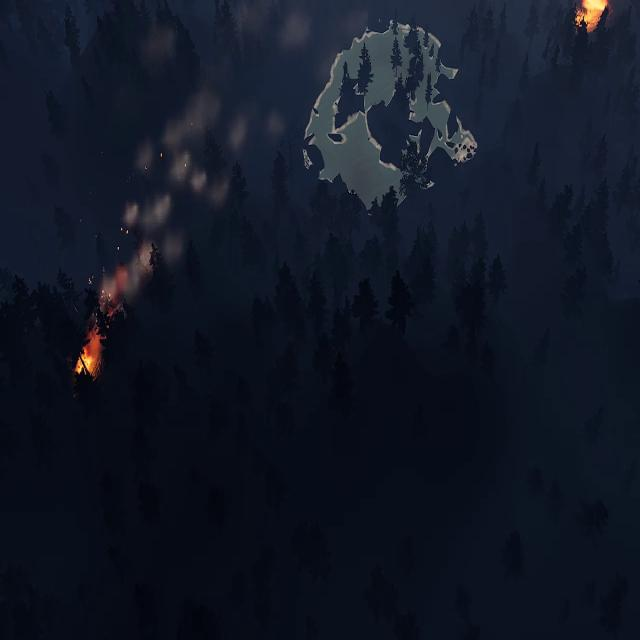fire: (77, 329, 104, 377), (578, 0, 611, 28), (95, 287, 121, 322)
smoke: (104, 84, 248, 308)
